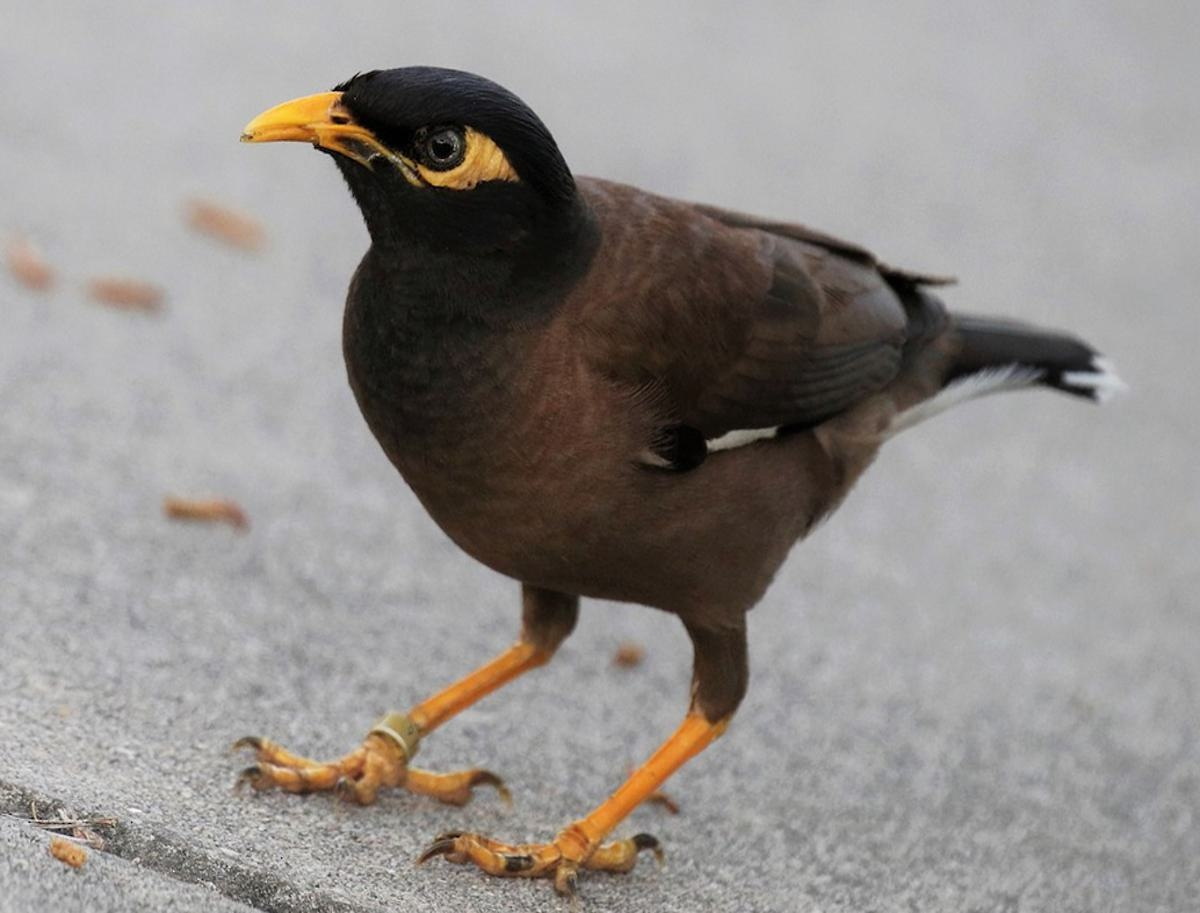myna: (229, 26, 954, 884)
